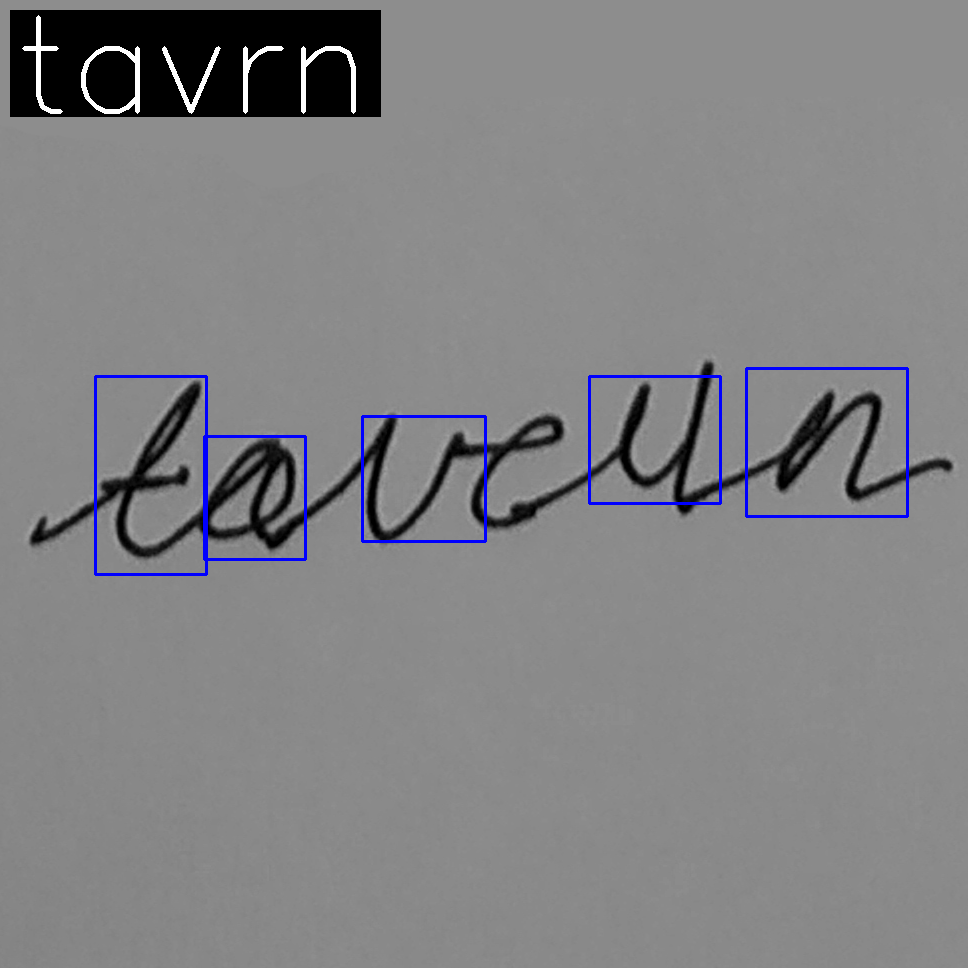a: (193, 434, 302, 552)
e: (468, 411, 569, 534)
n: (770, 383, 889, 512)
r: (578, 358, 716, 523)
t: (95, 377, 203, 561)
v: (360, 411, 458, 548)
